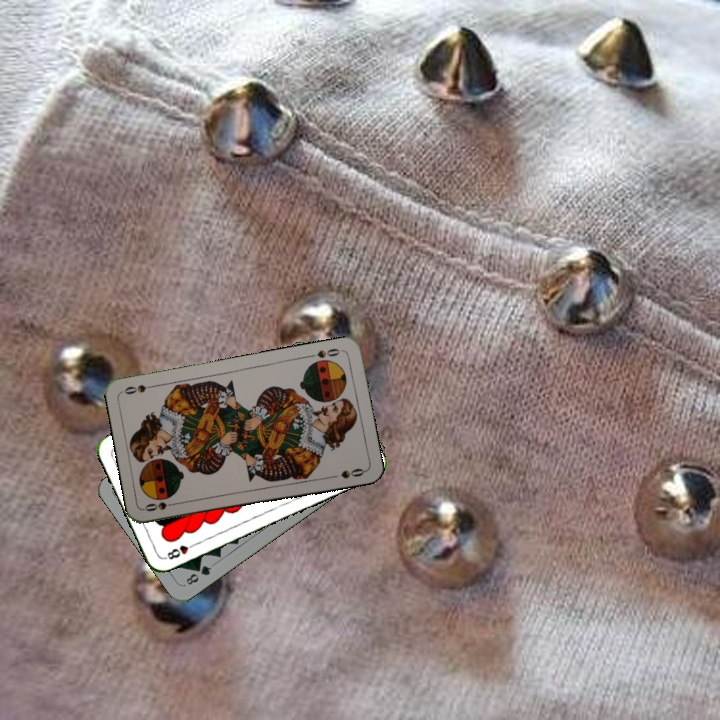G8: (181, 561, 214, 588)
H8: (161, 539, 199, 562)
SO: (305, 344, 345, 361), (141, 498, 181, 514)
